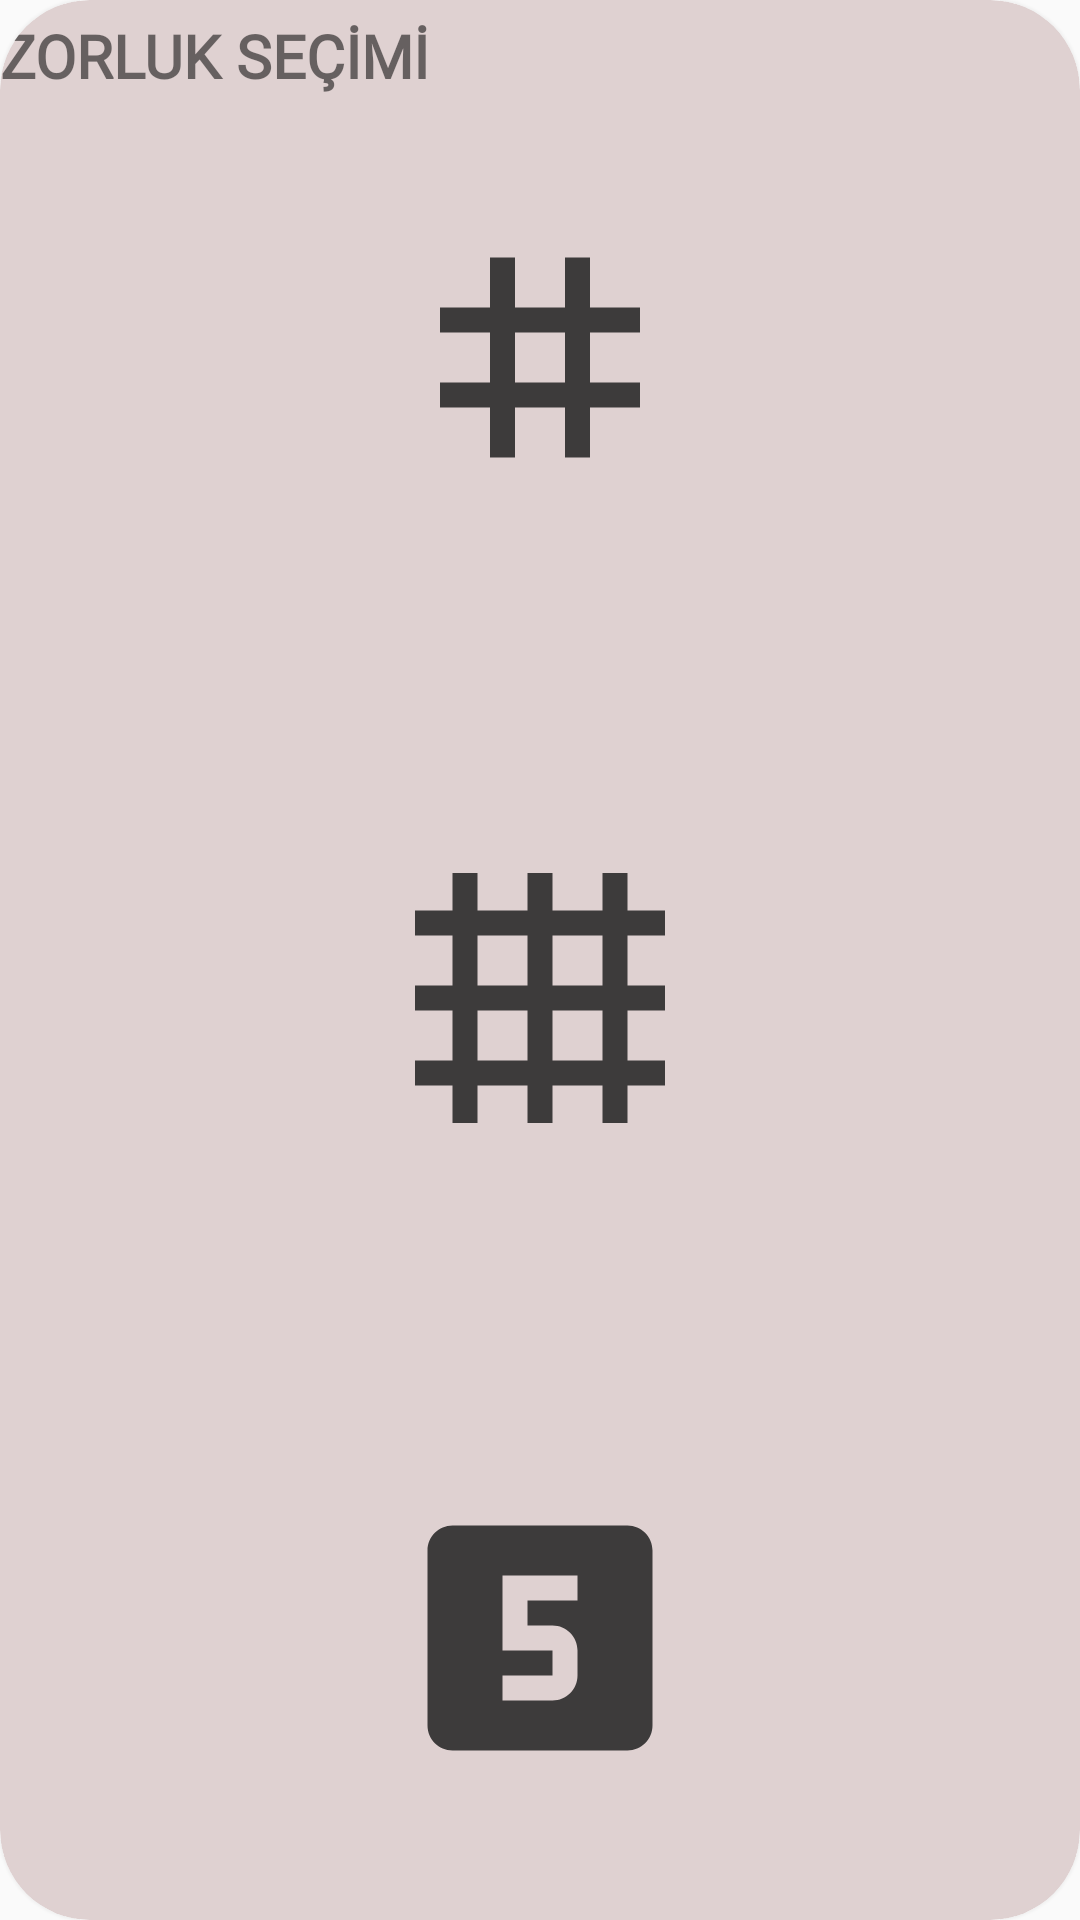

Icons on this 1080px x 1920px Android screen, each with the point to tap as point (x, y):
grid: point (540, 357), point (540, 998)
